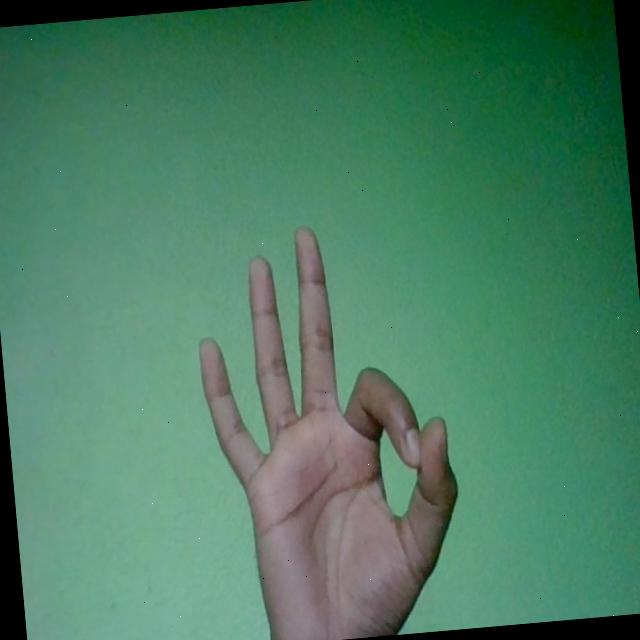Rock On: (187, 210, 472, 640)
